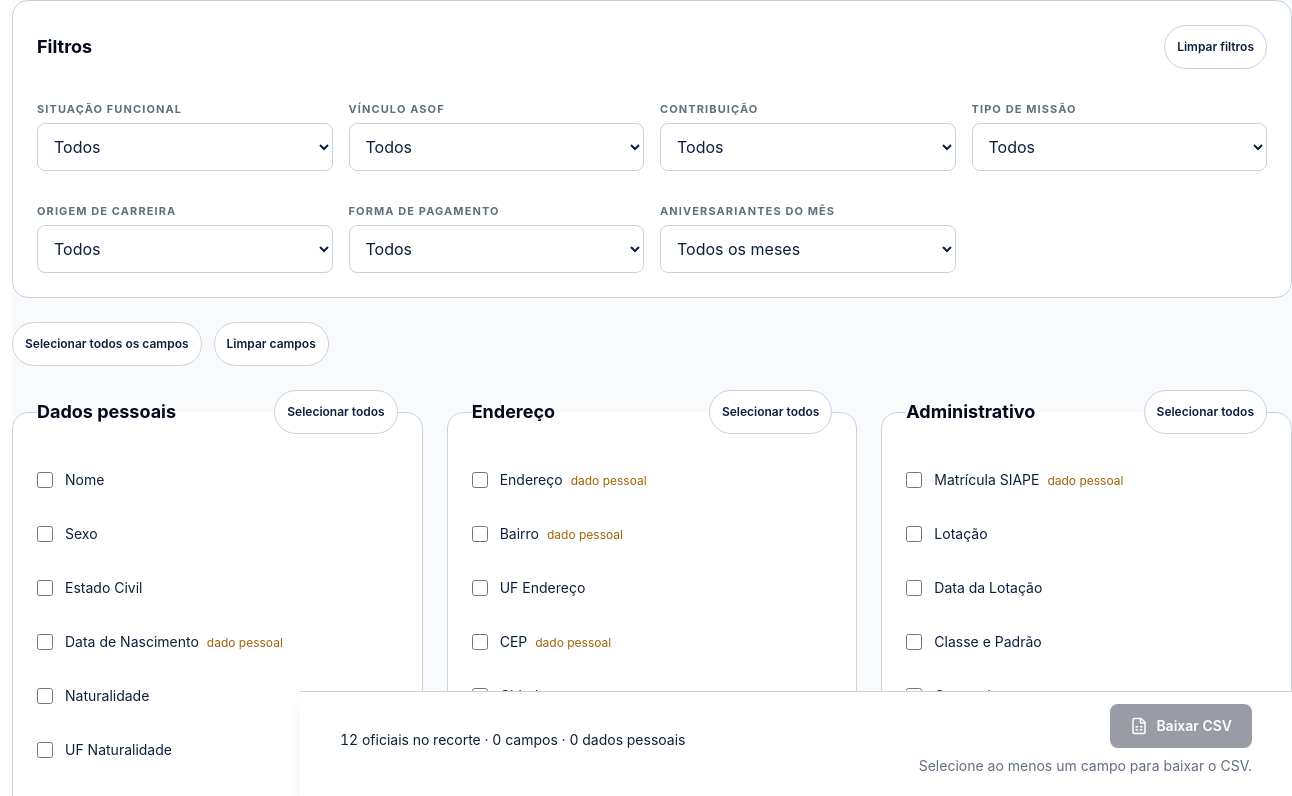
Test: RelatorioForm › updates the officials count when filters change
The image size is (1292, 796).
Expected: the heading "Filtros" is shown, [37,33,92,61]
Expected: the text "12 oficiais no recorte · 0 campos · 0 dados pessoais" is shown, [340,730,686,750]
Select "Ativo" in the dropdown labelled "Situação funcional" at (185, 147), box [37,123,332,171]
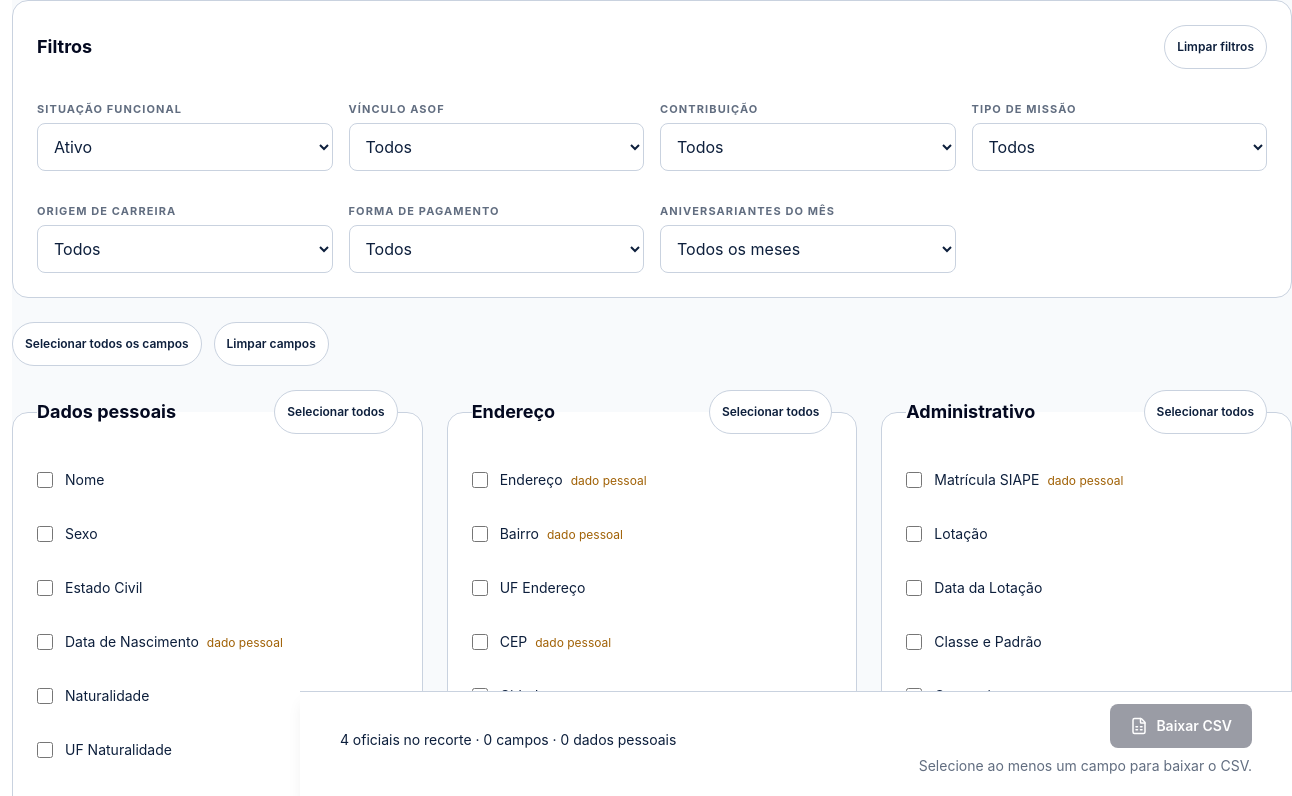
Result: the text "4 oficiais no recorte · 0 campos · 0 dados pessoais" is shown at [340,730,676,750]
